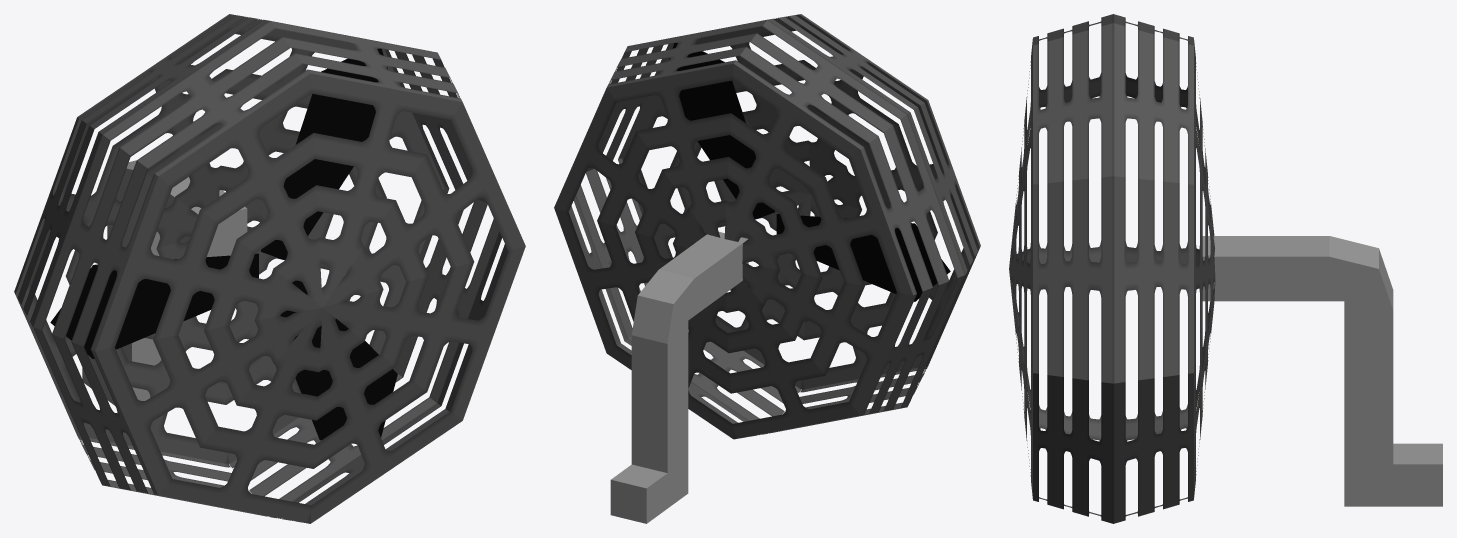
The model's file is WallFan.fbx.
3 renders of one model, left to right at view 1: azimuth 30°, elevation 25°; view 2: azimuth 150°, elevation 25°; view 3: azimuth 270°, elevation 25°, orthographic. The views are drawn at different scales.
Parts seen in each view (by area): view 1: Cylinder.004, Plane.001, Cube.003; view 2: Cylinder.004, Cube.003, Plane.001; view 3: Cylinder.004, Cube.003.
Boxes of the visible parts, left/top/right/bottom form: Cylinder.004: left=14, top=14, right=525, bottom=523; Plane.001: left=50, top=48, right=397, bottom=440; Cube.003: left=82, top=160, right=247, bottom=405; Cylinder.004: left=554, top=14, right=980, bottom=439; Cube.003: left=610, top=232, right=748, bottom=523; Plane.001: left=669, top=43, right=950, bottom=301; Cylinder.004: left=1009, top=14, right=1215, bottom=523; Cube.003: left=1202, top=236, right=1442, bottom=506.
Size of the model in its own units: 220 by 220 by 176.
